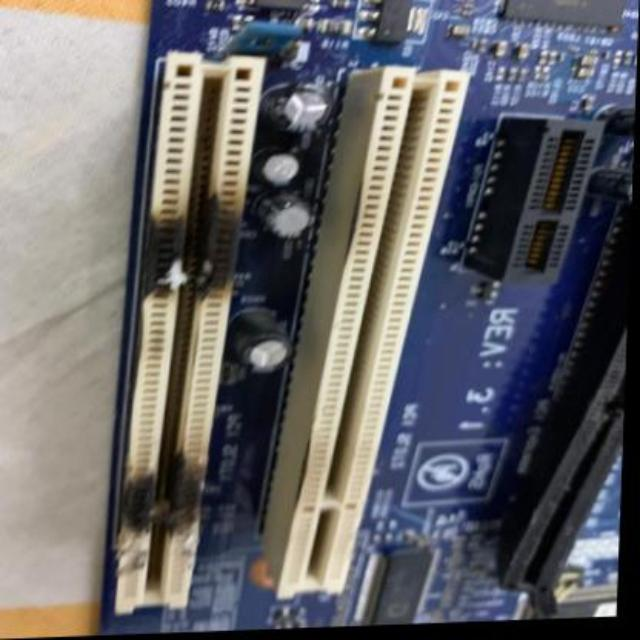PCB: (115, 0, 640, 634)
